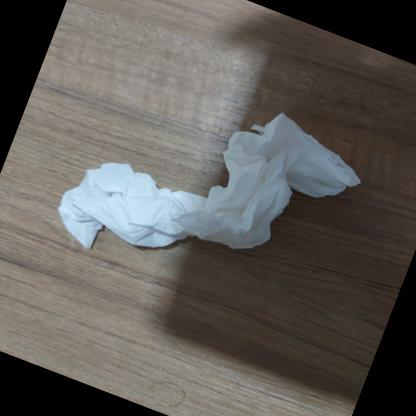paper: (41, 43, 380, 336)
